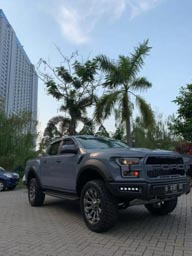plat: (160, 183, 188, 195)
